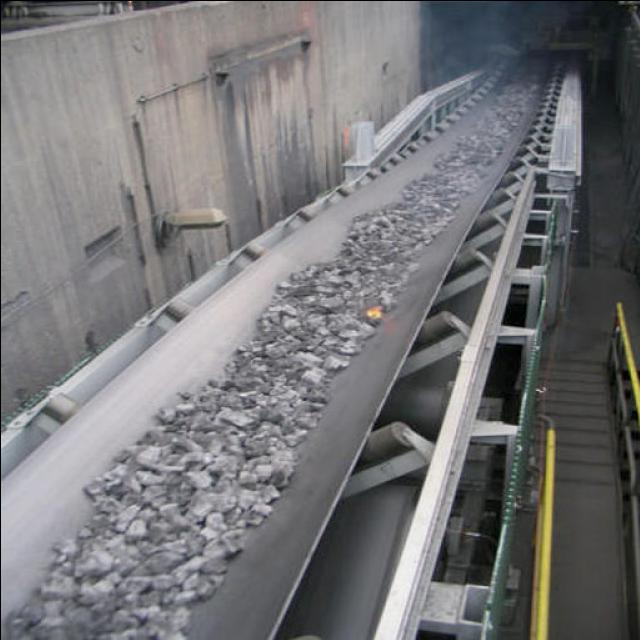conveyor: (0, 48, 569, 640)
